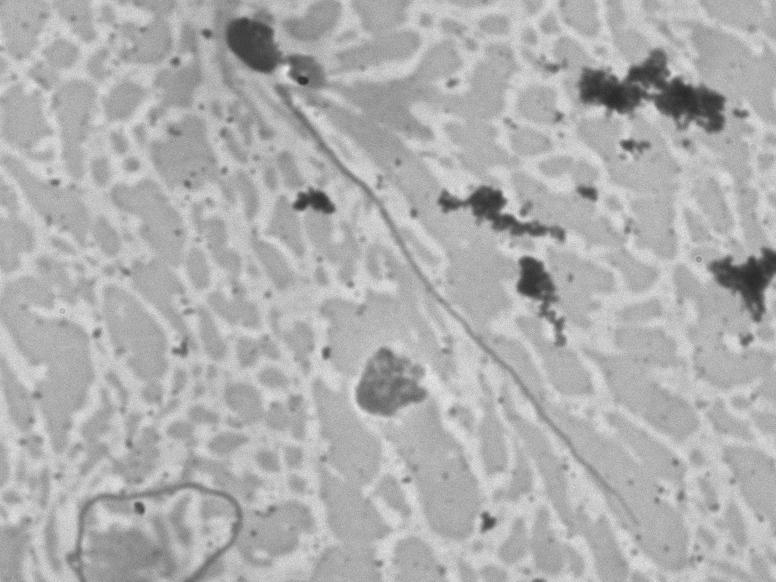Abnormal: (206, 11, 660, 550)
